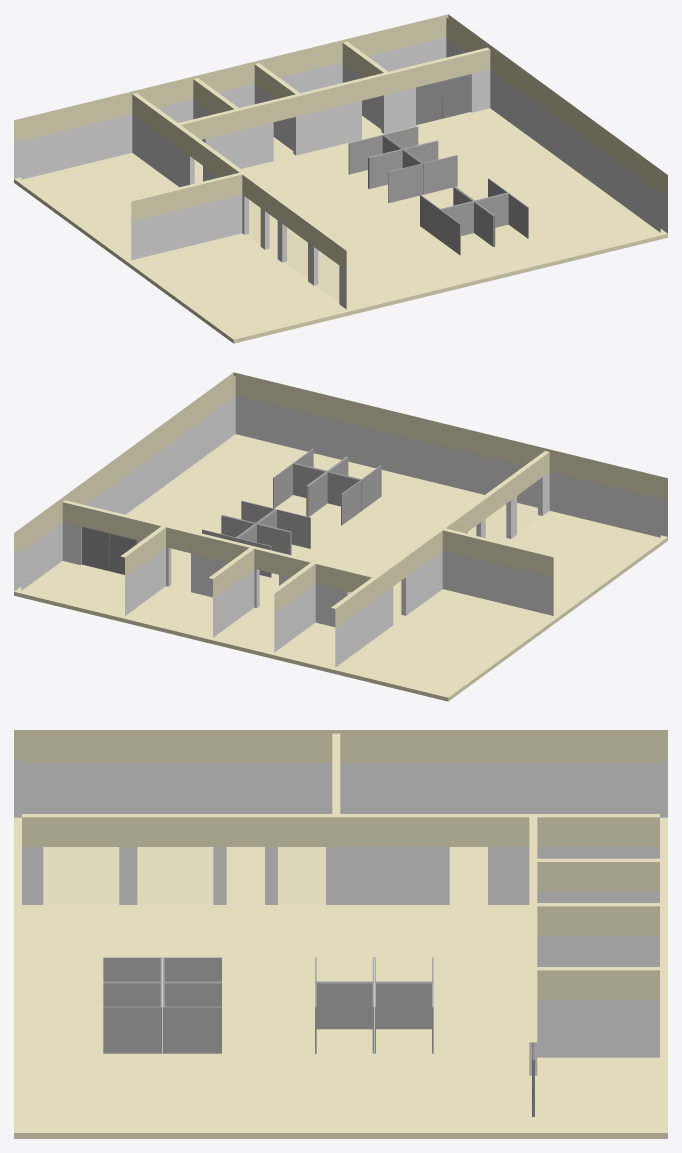
Rendered from Level_3_v02.gltf.
The picture shows the model from 3 angles, top to bottom: view 1: azimuth 30°, elevation 25°; view 2: azimuth 150°, elevation 25°; view 3: azimuth 270°, elevation 25°; orthographic projection. The views are drawn at different scales.
Parts seen in each view (by area): view 1: L3_Floor, L3_MainWalls, L3_UpperWalls, Cubicle.5, Cubicle.1, Cubicle.8, Cubicle.2, Cubicle.6, ElevatorDoor.1, ElevatorDoor.2, Cubicle.4, Cubicle.7; view 2: L3_Floor, L3_MainWalls, L3_UpperWalls, Cubicle.4, Cubicle.3, Cubicle.6, Cubicle.5, ElevatorDoor.1, Cubicle.1, ElevatorDoor.2, Cubicle.7, Cubicle.8; view 3: L3_Floor, L3_MainWalls, L3_UpperWalls, Cubicle.2, Cubicle.3, Cubicle.7, Cubicle.8, Cubicle.1, Cubicle.4.
Boxes of the visible parts, bbox=[...] form: L3_Floor: bbox=[14, 108, 667, 343]; L3_MainWalls: bbox=[14, 37, 667, 309]; L3_UpperWalls: bbox=[14, 14, 667, 270]; Cubicle.5: bbox=[368, 149, 422, 203]; Cubicle.1: bbox=[440, 201, 494, 255]; Cubicle.8: bbox=[403, 141, 457, 194]; Cubicle.2: bbox=[475, 193, 528, 246]; Cubicle.6: bbox=[348, 135, 402, 188]; ElevatorDoor.1: bbox=[443, 74, 470, 118]; ElevatorDoor.2: bbox=[416, 81, 442, 124]; Cubicle.4: bbox=[420, 186, 473, 240]; Cubicle.7: bbox=[384, 126, 437, 149]; L3_Floor: bbox=[14, 434, 667, 701]; L3_MainWalls: bbox=[14, 395, 667, 667]; L3_UpperWalls: bbox=[14, 372, 667, 628]; Cubicle.4: bbox=[307, 471, 361, 525]; Cubicle.3: bbox=[273, 463, 326, 516]; Cubicle.6: bbox=[236, 523, 290, 577]; Cubicle.5: bbox=[257, 509, 310, 555]; ElevatorDoor.1: bbox=[81, 527, 109, 571]; Cubicle.1: bbox=[328, 457, 381, 510]; ElevatorDoor.2: bbox=[109, 533, 136, 574]; Cubicle.7: bbox=[202, 515, 255, 541]; Cubicle.8: bbox=[222, 500, 275, 523]; L3_Floor: bbox=[14, 817, 667, 1138]; L3_MainWalls: bbox=[14, 759, 667, 1075]; L3_UpperWalls: bbox=[14, 730, 667, 1042]; Cubicle.2: bbox=[103, 982, 162, 1053]; Cubicle.3: bbox=[163, 982, 221, 1053]; Cubicle.7: bbox=[374, 982, 433, 1053]; Cubicle.8: bbox=[315, 982, 373, 1053]; Cubicle.1: bbox=[103, 957, 162, 982]; Cubicle.4: bbox=[163, 957, 221, 982].
Bounding box in the file's own units: 2340 × 322 × 2050.
